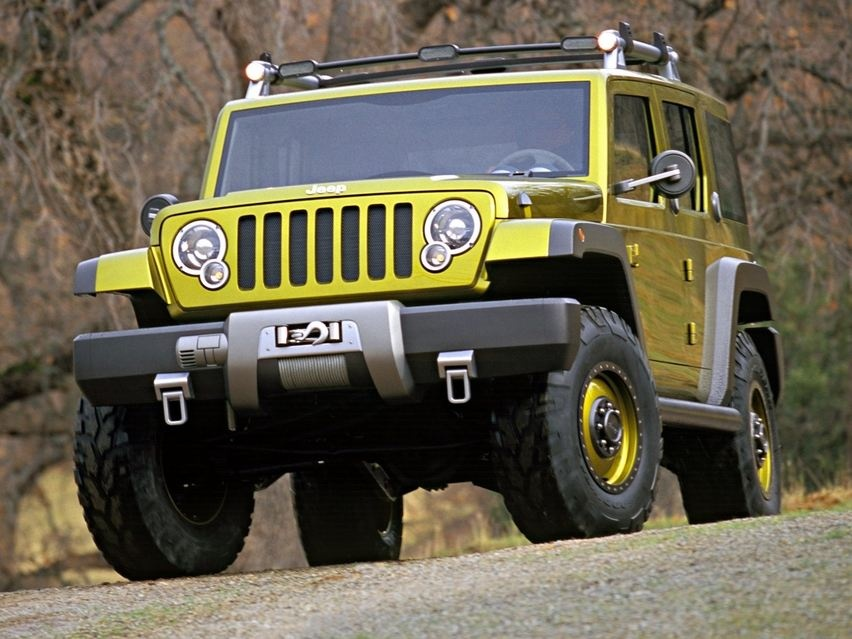jeep: (63, 59, 802, 552)
